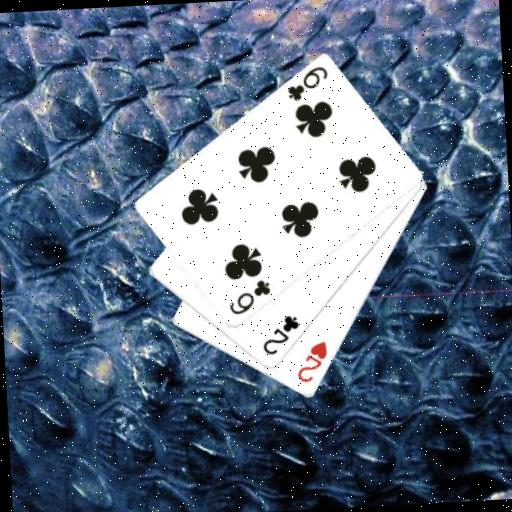2C: (258, 312, 303, 358)
2H: (293, 339, 331, 386)
6C: (225, 277, 274, 318), (283, 63, 330, 104)
